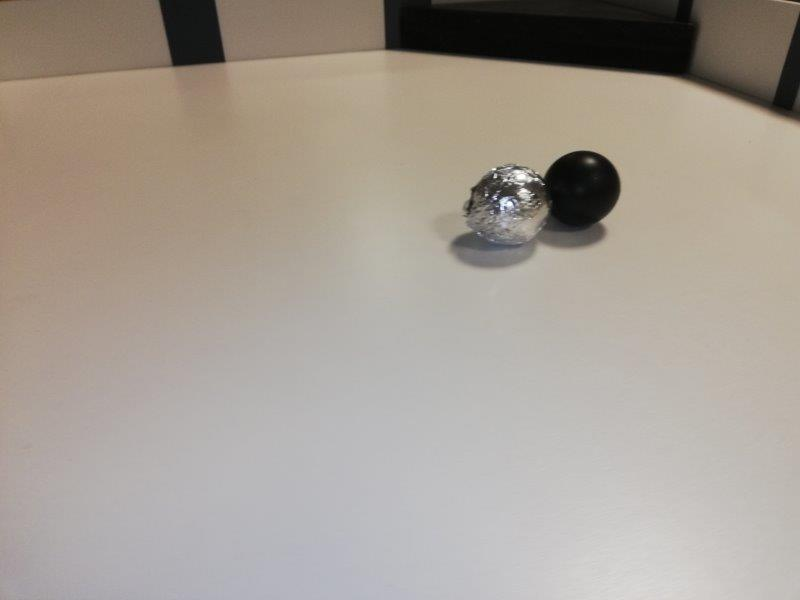bianca: (464, 161, 551, 242)
nera: (541, 150, 617, 224)
